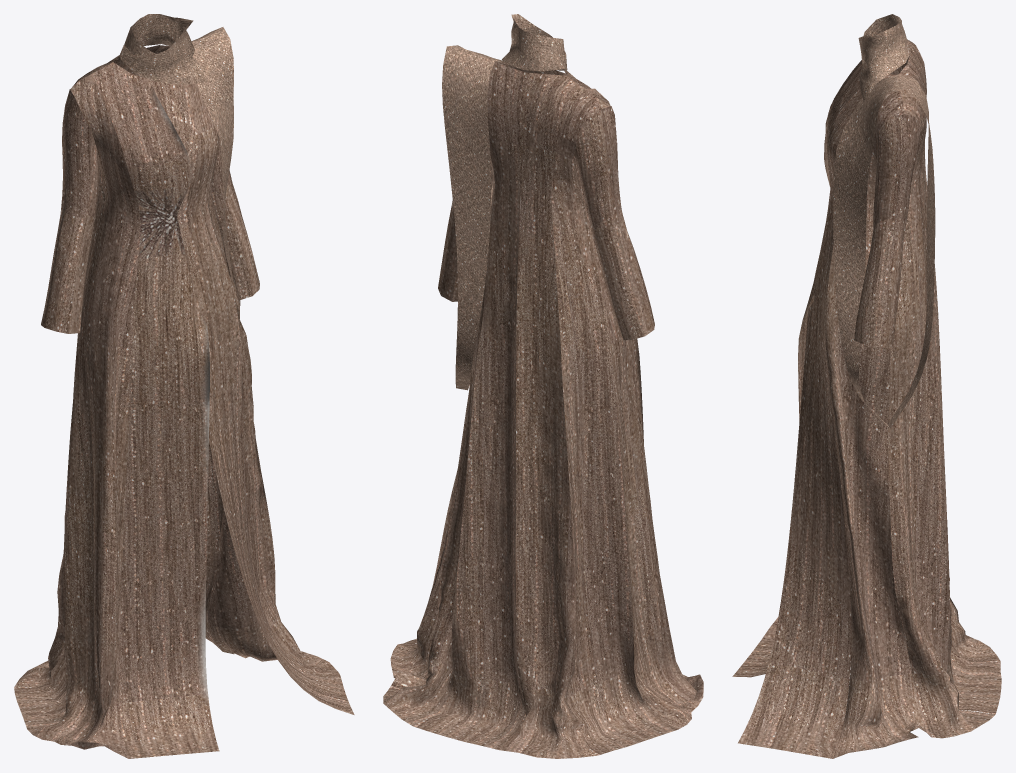
3 views of the same model, side by side, from view 1: azimuth 30°, elevation 25°; view 2: azimuth 150°, elevation 25°; view 3: azimuth 270°, elevation 25° (orthographic).
Parts seen in each view (by area): view 1: Cloth; view 2: Cloth; view 3: Cloth.
Boxes of the visible parts, left/top/right/bottom form: Cloth: left=14, top=14, right=354, bottom=758; Cloth: left=383, top=14, right=703, bottom=758; Cloth: left=732, top=14, right=1001, bottom=758.
Size of the model in its own units: 0.8103 by 1.77 by 0.6515.
8 materials, 8 textured.
